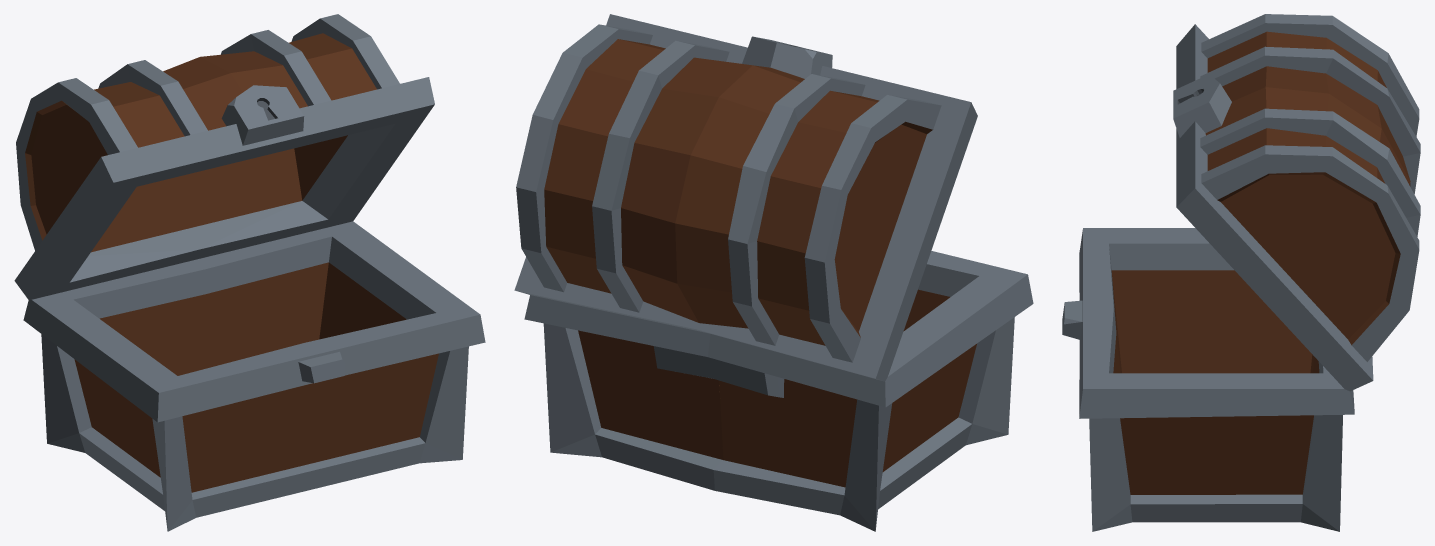
File: chest-empty.fbx
3 views of the same model, side by side, from view 1: azimuth 30°, elevation 25°; view 2: azimuth 150°, elevation 25°; view 3: azimuth 270°, elevation 25° (orthographic). The views are drawn at different scales.
Parts seen in each view (by area): view 1: chest-empty; view 2: chest-empty; view 3: chest-empty.
Boxes of the visible parts, x1,y1,x2,y2 form: chest-empty: (14,14,485,531); chest-empty: (514,14,1033,531); chest-empty: (1062,14,1420,531).
Size of the model in its own units: 95.39 by 102 by 87.88.
